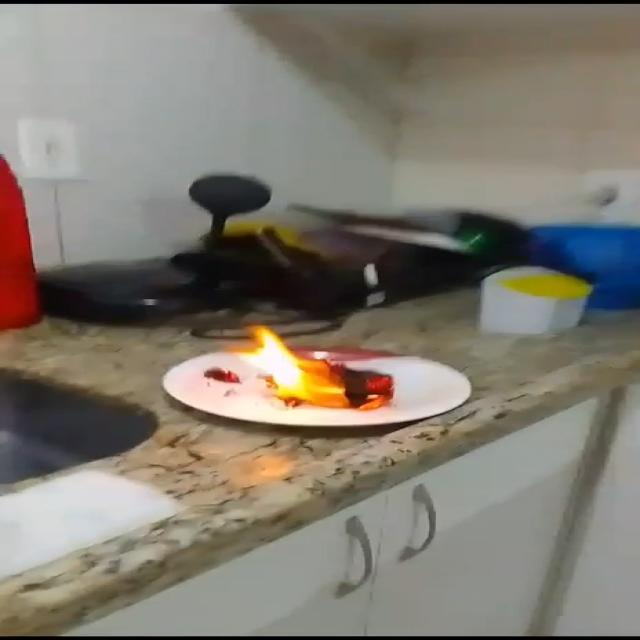fogo-ypXI: (222, 322, 396, 413)
